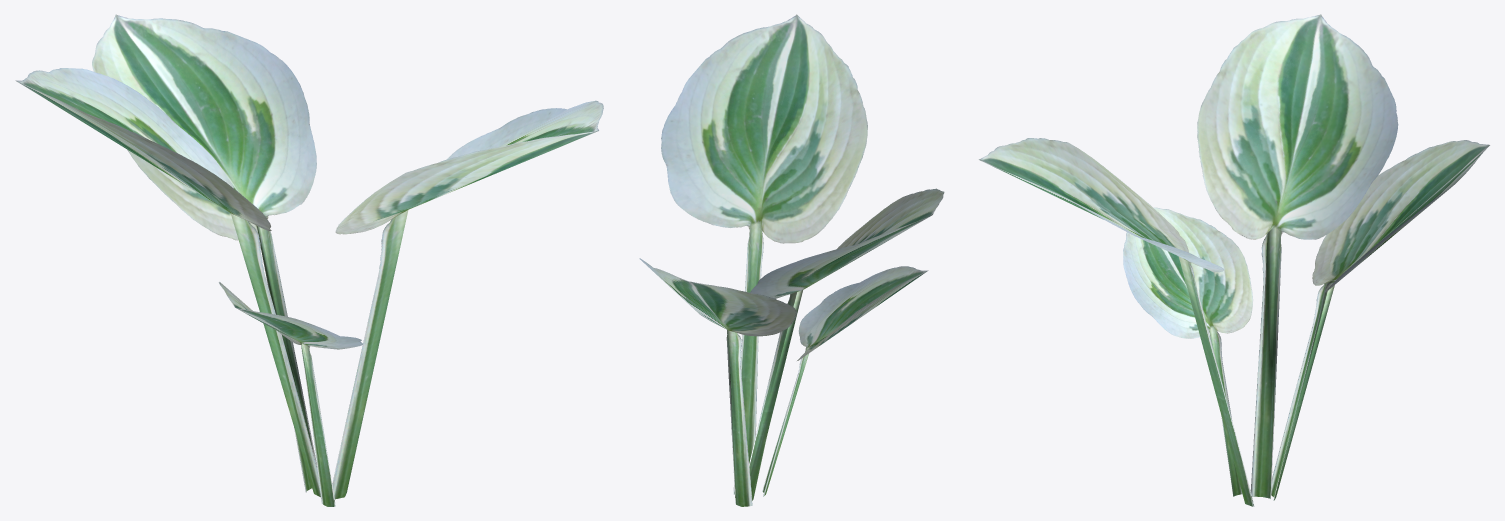
The model's file is plant_small_wg_01Z.fbx.
3 renders of one model, left to right at view 1: azimuth 30°, elevation 25°; view 2: azimuth 150°, elevation 25°; view 3: azimuth 270°, elevation 25°, orthographic. The views are drawn at different scales.
Visible parts, largest first — view 1: plant_small_wg_01Z; view 2: plant_small_wg_01Z; view 3: plant_small_wg_01Z.
Boxes of the visible parts, x1=… form: plant_small_wg_01Z: x1=15, y1=14, x2=603, y2=506; plant_small_wg_01Z: x1=639, y1=14, x2=944, y2=506; plant_small_wg_01Z: x1=979, y1=14, x2=1489, y2=506.
Size of the model in its own units: 59.07 by 58.61 by 71.19.
